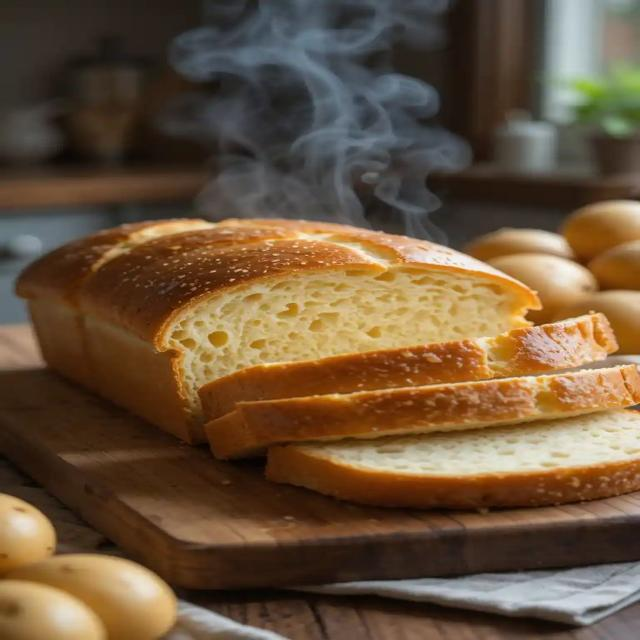sliced bread: (17, 220, 539, 442), (200, 314, 617, 419), (206, 365, 639, 458), (267, 410, 639, 508)
